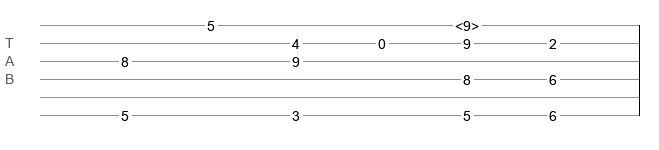0: (378, 36, 386, 46)
2: (549, 36, 557, 46)
3: (292, 108, 300, 118)
4: (292, 36, 300, 46)
5: (121, 108, 129, 118), (207, 18, 215, 28), (463, 108, 471, 118)
6: (549, 72, 557, 82), (549, 108, 557, 118)
8: (121, 54, 129, 64), (463, 72, 471, 82)
9: (292, 54, 300, 64), (463, 36, 471, 46)
harmonic: (455, 18, 479, 28)
